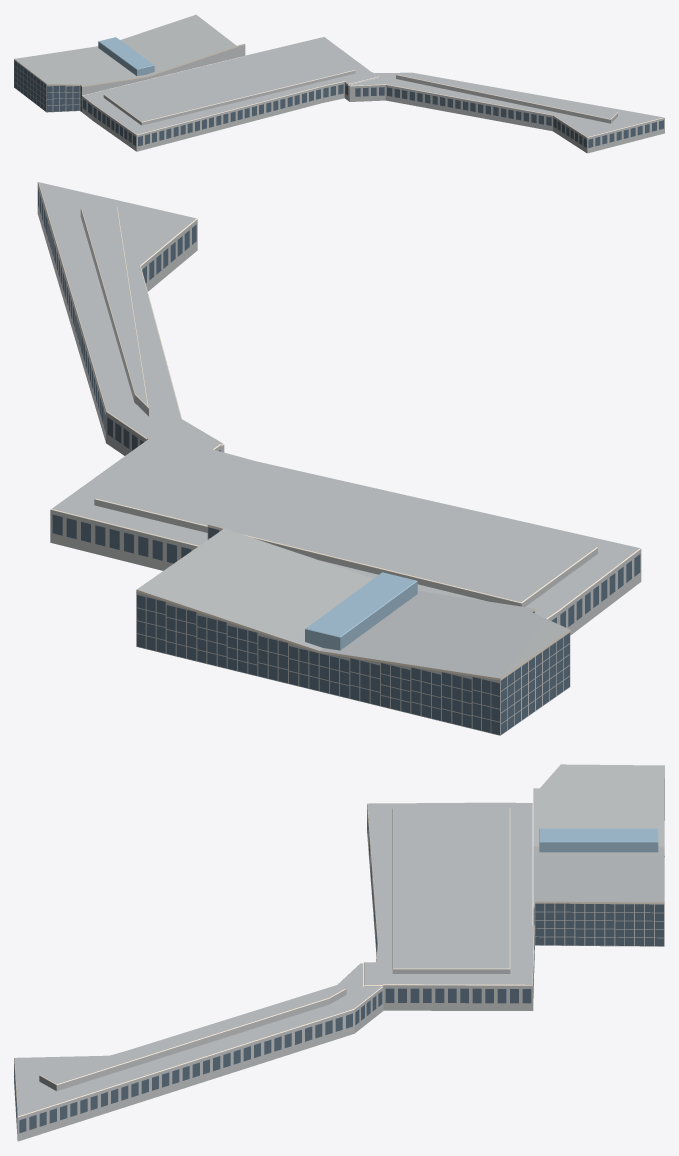
Rendered from nyc-jfk-new-terminal-one.glb.
The picture shows the model from 3 angles, top to bottom: view 1: azimuth 30°, elevation 25°; view 2: azimuth 150°, elevation 25°; view 3: azimuth 270°, elevation 25°; orthographic projection. The views are drawn at different scales.
Parts seen in each view (by area): view 1: JFK Airport New Terminal One; view 2: JFK Airport New Terminal One; view 3: JFK Airport New Terminal One.
Part boxes in pixels (left/top/right/bottom): JFK Airport New Terminal One: left=14, top=14, right=664, bottom=153; JFK Airport New Terminal One: left=37, top=182, right=641, bottom=735; JFK Airport New Terminal One: left=14, top=764, right=664, bottom=1141.
Bounding box in the file's own units: 549 × 34.12 × 453.
